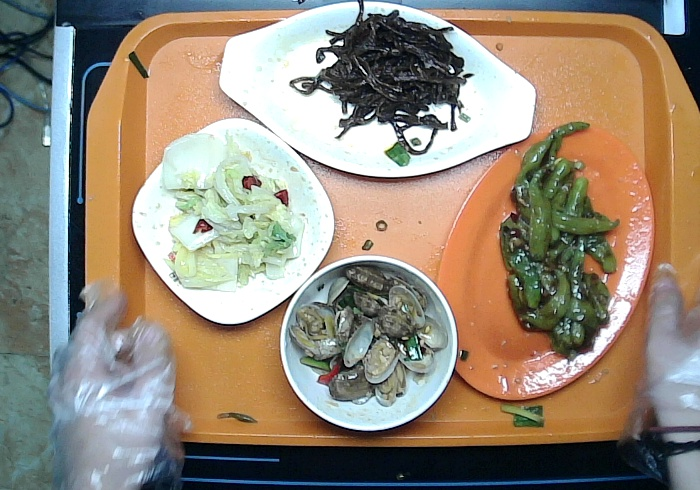NLDX-Bai_Se_Xiao_Fang_Die: (130, 116, 337, 328)
NLDX-Fan_Wan: (275, 253, 460, 436)
NLDX-Ju_Se_Pan: (434, 118, 657, 404)
NLDX-Yu_Pan: (216, 1, 538, 180)
